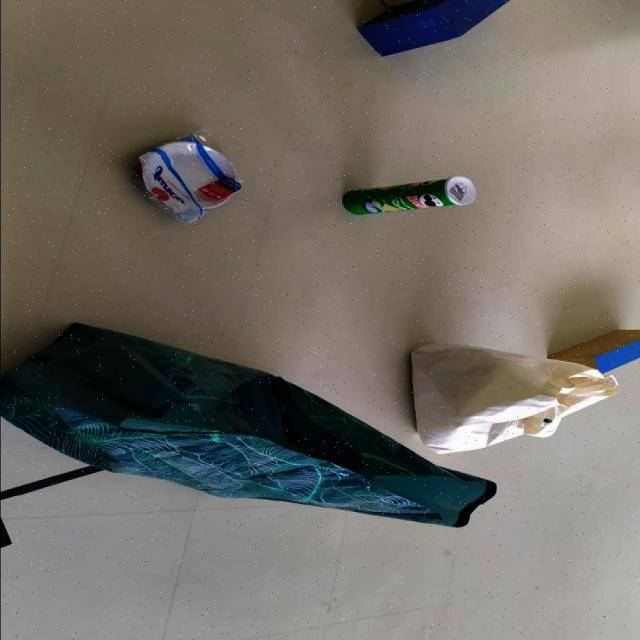Bag: (0, 328, 489, 531), (410, 338, 621, 452)
Plate: (135, 138, 239, 212)
Pringles: (343, 176, 472, 217)
